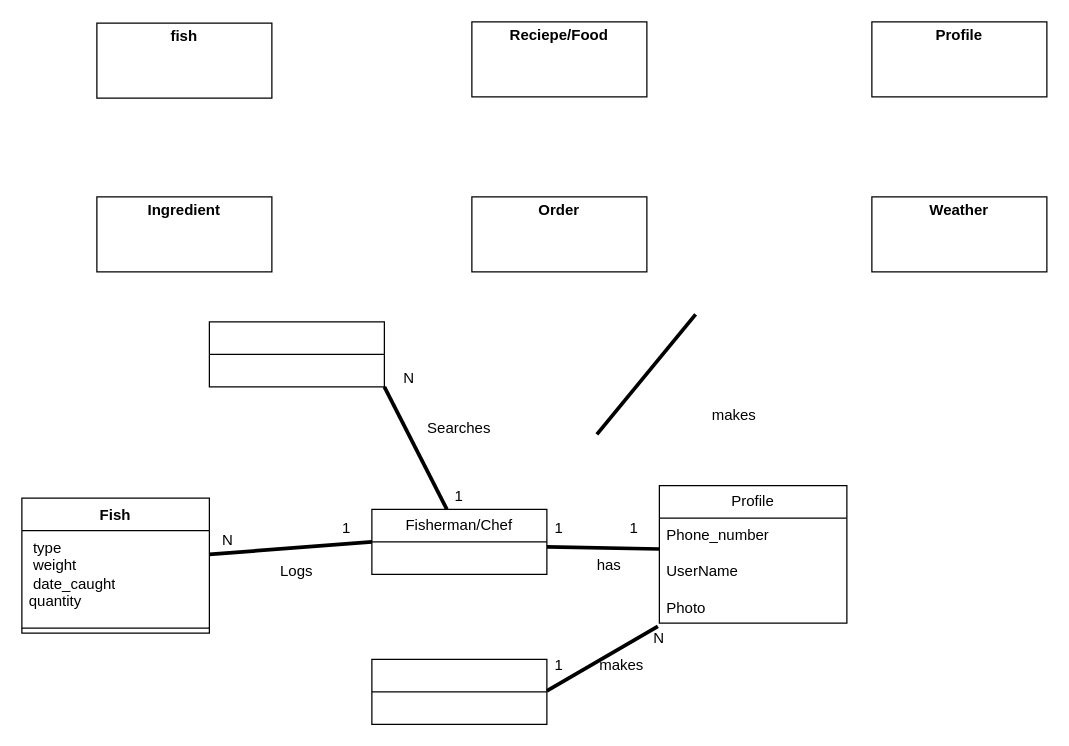
This 1069x746 diagram has some shape labels left out. Here are the shapes that lost their labels. From the top down, the centre of each, then its label:
At (x=296, y=354): "Bait".
At (x=459, y=691): "Rest_Customer".
